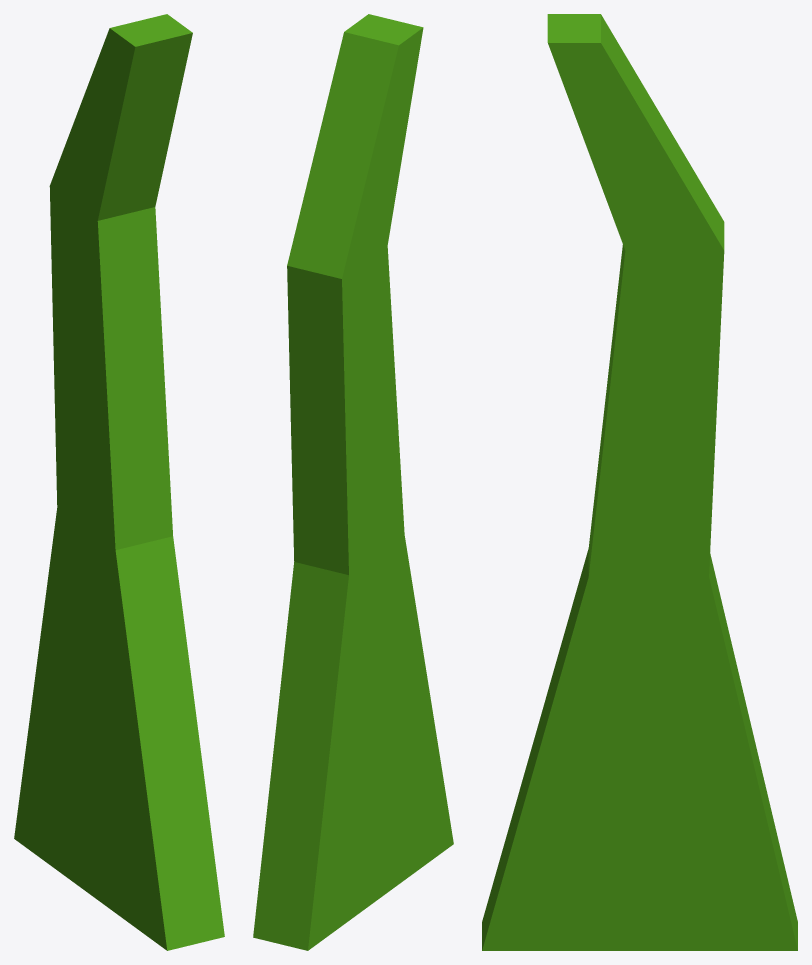
Rendered from GrassSingle_c_04.fbx.
The picture shows the model from 3 angles, left to right: view 1: azimuth 30°, elevation 25°; view 2: azimuth 150°, elevation 25°; view 3: azimuth 270°, elevation 25°; orthographic projection. The views are drawn at different scales.
Visible parts, largest first — view 1: GrassSingle_c_04; view 2: GrassSingle_c_04; view 3: GrassSingle_c_04.
Boxes of the visible parts, bbox=[...] form: GrassSingle_c_04: bbox=[14, 14, 224, 950]; GrassSingle_c_04: bbox=[253, 14, 453, 950]; GrassSingle_c_04: bbox=[482, 14, 797, 950].
Bounding box in the file's own units: 0.4098 × 5.99 × 1.89.
